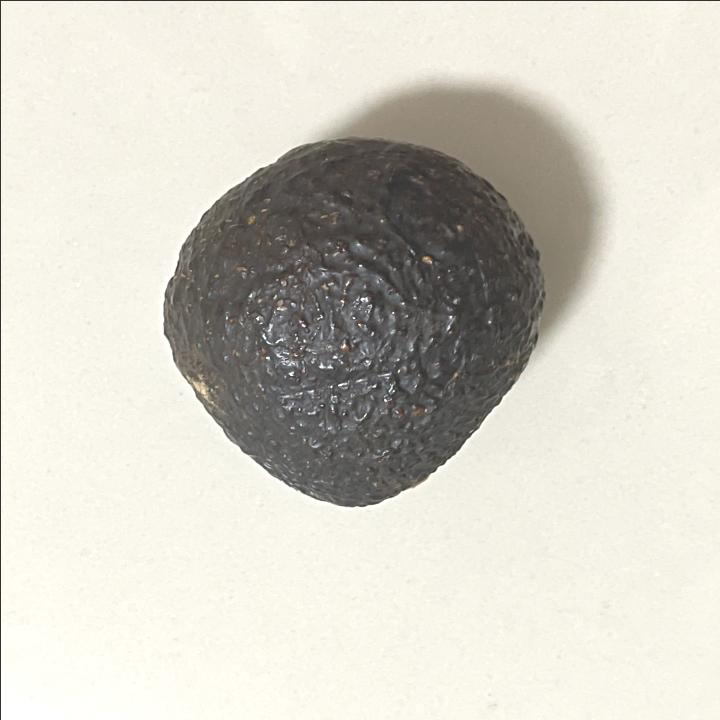Level3: (150, 131, 556, 515)
